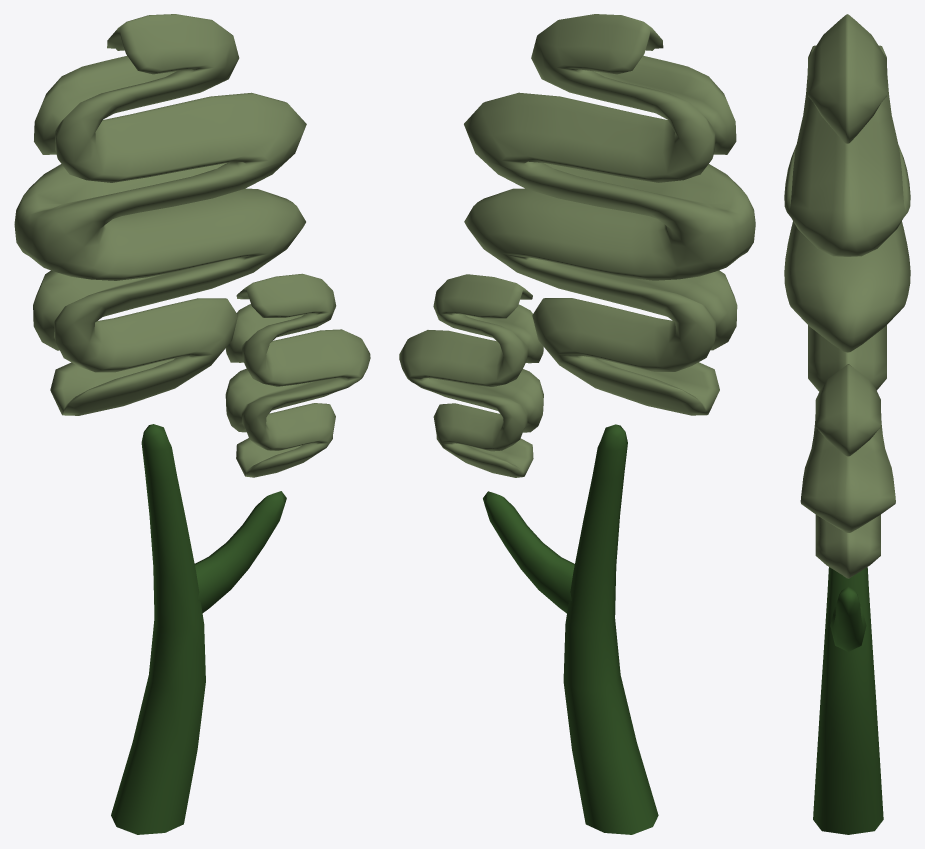
File: quaternius-ultimate-space-pack-tree-floating-2-transformed.glb
The picture shows the model from 3 angles, left to right: view 1: azimuth 30°, elevation 25°; view 2: azimuth 150°, elevation 25°; view 3: azimuth 270°, elevation 25°; orthographic projection.
Parts seen in each view (by area): view 1: Tree_Floating_2; view 2: Tree_Floating_2; view 3: Tree_Floating_2.
Part boxes in pixels (x1,y1,x2,y2): Tree_Floating_2: (14,14,370,834); Tree_Floating_2: (399,14,755,834); Tree_Floating_2: (784,14,910,834).
Bounding box in the file's own units: 2.63 × 5.87 × 0.8429.
1 material, 1 textured.
